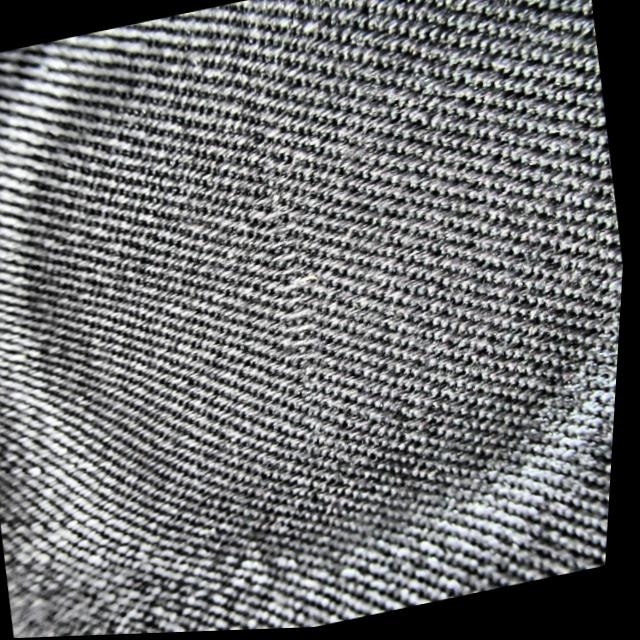Hole: (245, 205, 343, 368)
